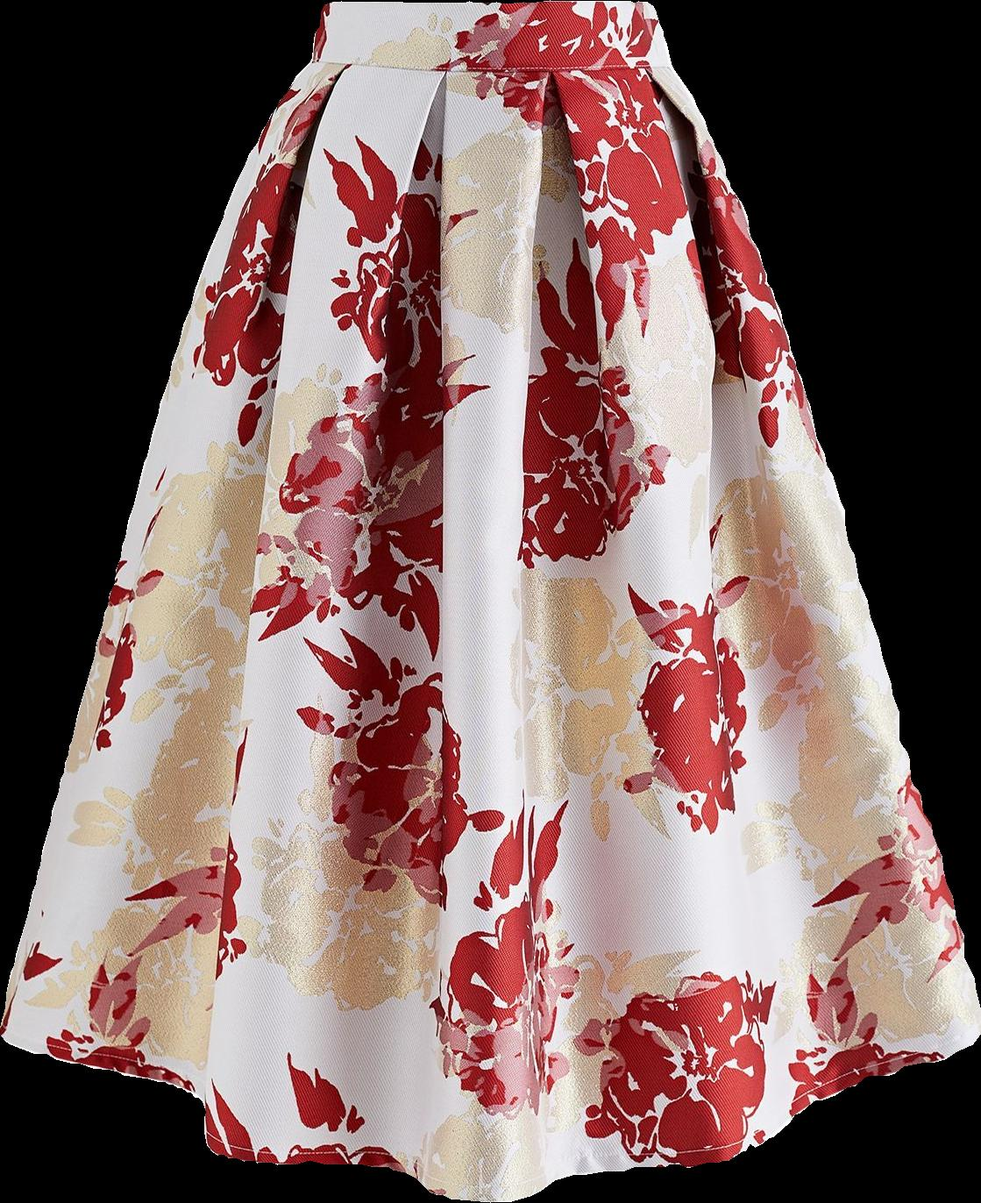Hemline: (0, 1024, 980, 1202)
Waistline: (296, 56, 677, 82), (323, 0, 661, 13)
